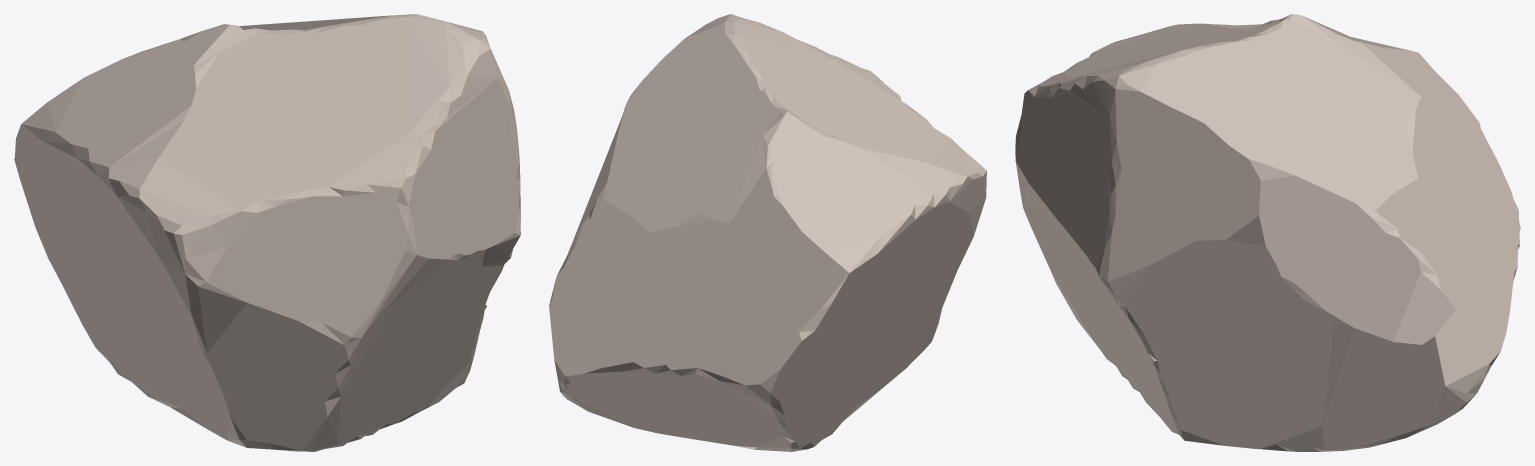
File: rock1.fbx
3 views of the same model, side by side, from view 1: azimuth 30°, elevation 25°; view 2: azimuth 150°, elevation 25°; view 3: azimuth 270°, elevation 25° (orthographic). The views are drawn at different scales.
Parts seen in each view (by area): view 1: rock_v1; view 2: rock_v1; view 3: rock_v1.
Part boxes in pixels (x1,y1,x2,y2): rock_v1: [14, 14, 520, 451]; rock_v1: [549, 14, 986, 451]; rock_v1: [1015, 14, 1520, 451].
Size of the model in its own units: 1.72 by 1.71 by 2.08.
